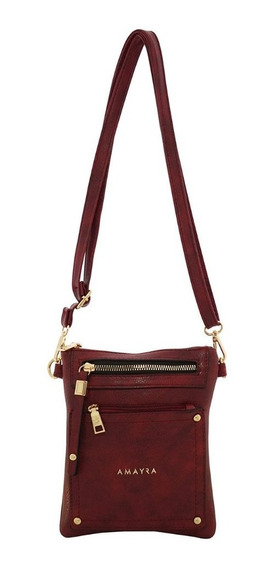cartera: (50, 28, 225, 538)
